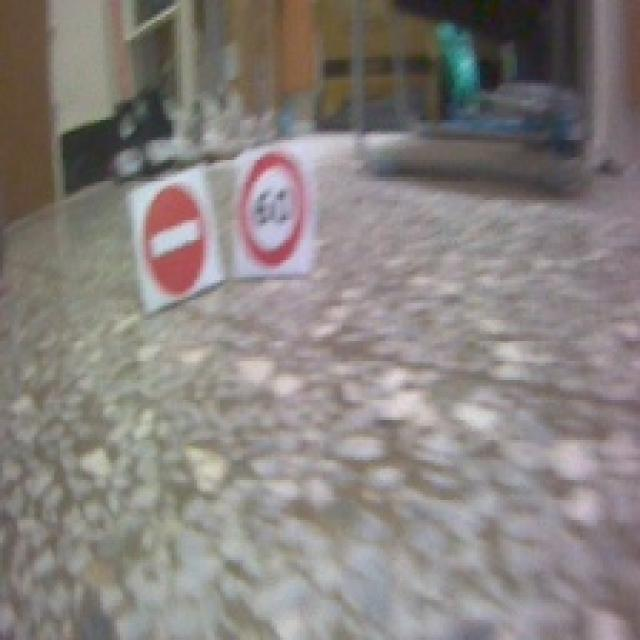DoNotEnterSign: (144, 180, 209, 292)
